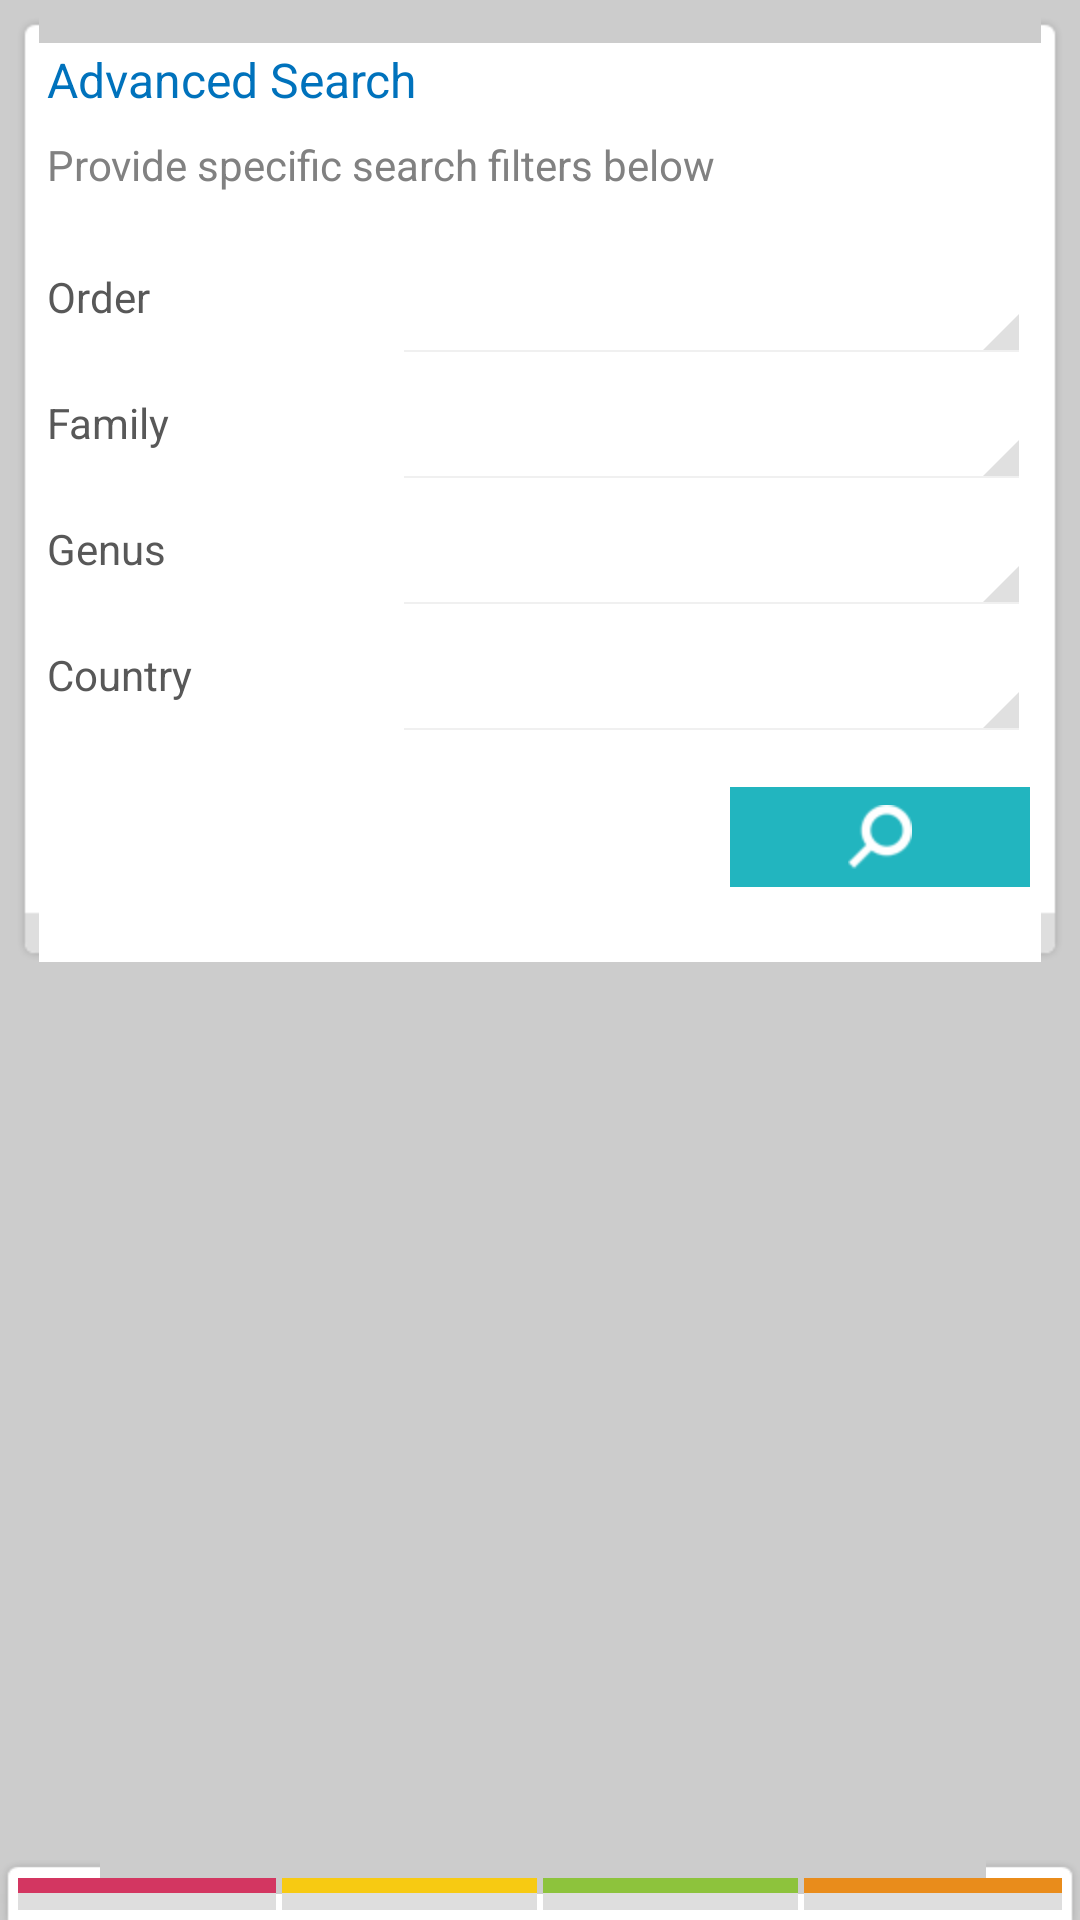

Named icons in this screenshot (1080×1920) and their bounding boxes, {"x1": x1, "y1": y1, "x2": x2, "y2": y2}:
search: {"x1": 848, "y1": 805, "x2": 912, "y2": 869}
